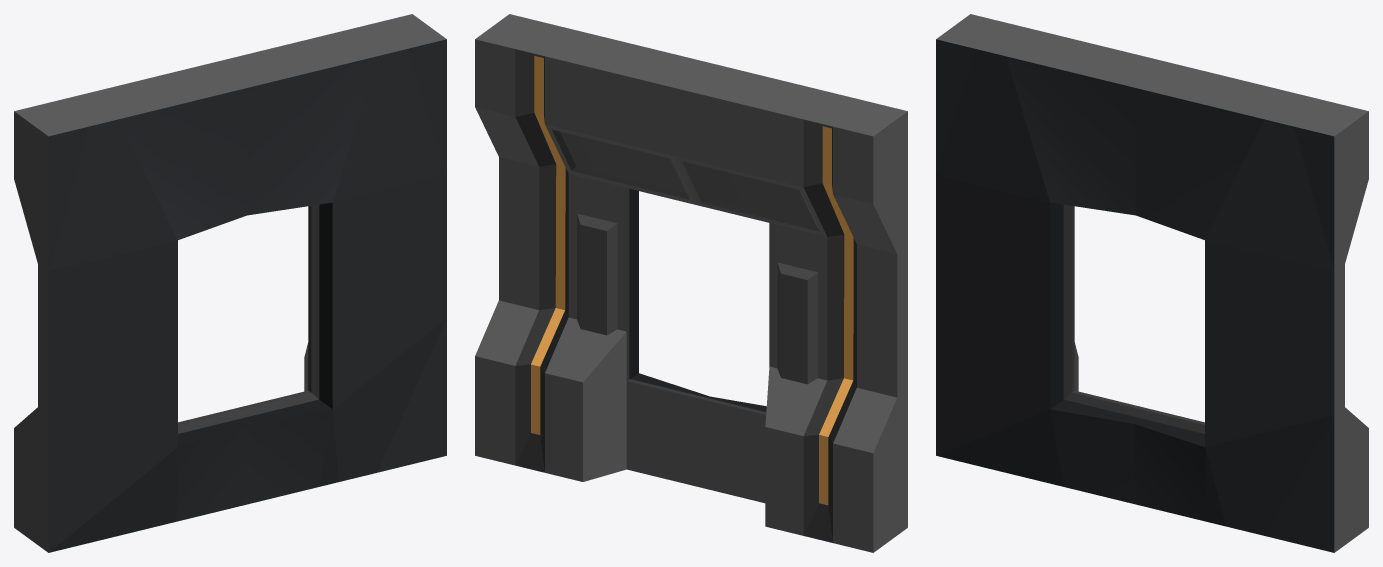
The model's file is SM_Bld_Lift_Wall_01.fbx.
3 views of the same model, side by side, from view 1: azimuth 30°, elevation 25°; view 2: azimuth 150°, elevation 25°; view 3: azimuth 330°, elevation 25° (orthographic).
Parts seen in each view (by area): view 1: SM_Bld_Lift_Wall_01_LOD0; view 2: SM_Bld_Lift_Wall_01_LOD0; view 3: SM_Bld_Lift_Wall_01_LOD0.
Part boxes in pixels (bbox=[...]): SM_Bld_Lift_Wall_01_LOD0: bbox=[14, 14, 446, 552]; SM_Bld_Lift_Wall_01_LOD0: bbox=[475, 14, 907, 552]; SM_Bld_Lift_Wall_01_LOD0: bbox=[936, 14, 1368, 552].
Bounding box in the file's own units: 91.48 × 500 × 500.
Materials: 1 (1 with a texture image).
